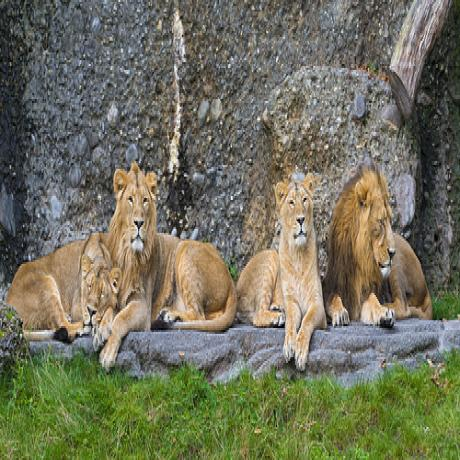Lion: (112, 147, 236, 363), (326, 166, 438, 327), (236, 174, 326, 371), (6, 234, 122, 340)
